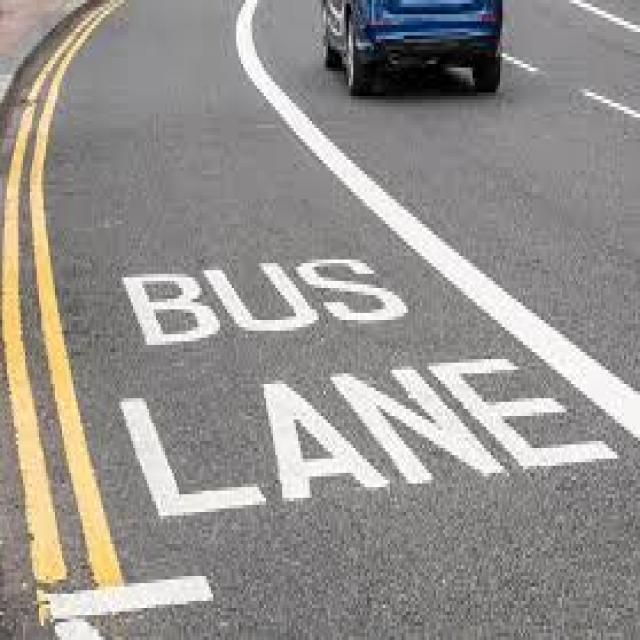BUS LANE: (237, 0, 640, 441), (110, 234, 637, 535)
